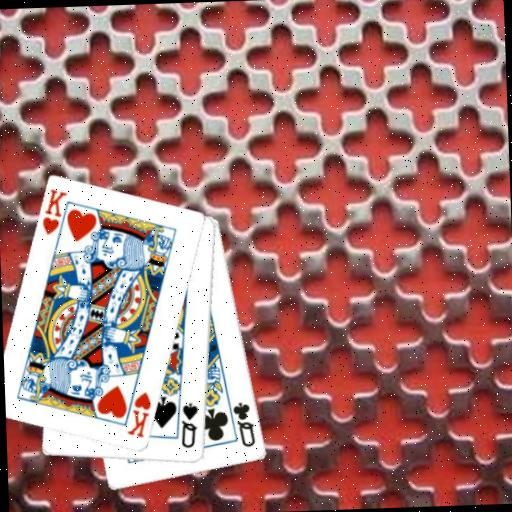KH: (38, 186, 70, 237), (123, 389, 154, 440)
QC: (230, 398, 257, 449)
QS: (177, 399, 201, 450)
